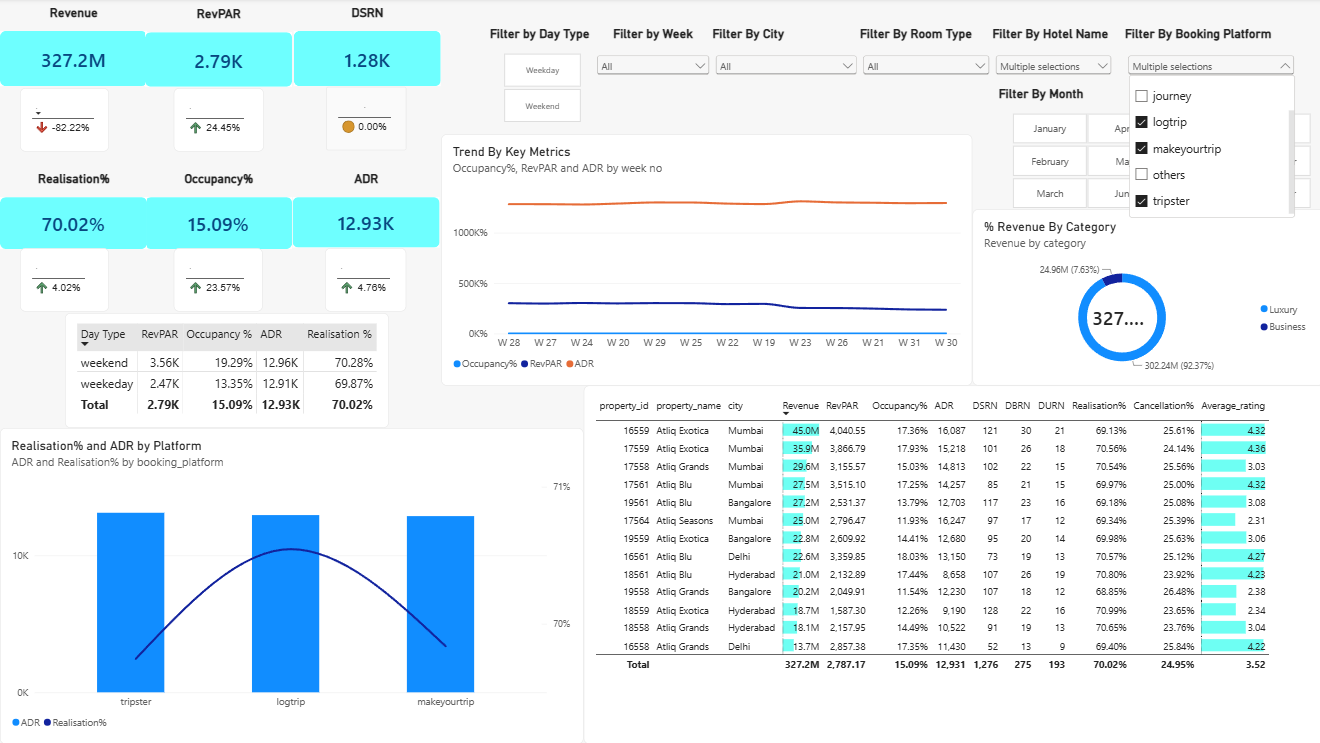

The page's visual inventory and layout, read from the dashboard file:
{"tool":"powerbi","page":{"name":"Home","canvas":[1920,1080],"ordinal":1},"visuals":[{"type":"tableEx","fields":{"Values":["dim_hotels.property_id","dim_hotels.property_name","dim_hotels.city","key_measures.Revenue","key_measures.RevPAR","key_measures.Occupancy%","key_measures.ADR","key_measures.DSRN","key_measures.DBRN","key_measures.DURN","key_measures.Realisation%","key_measures.Cancellation%"]},"box":[845.1,561,1074.9,519.4],"z":0},{"type":"slicer","title":"Filter By City","fields":{"Values":["dim_hotels.city"]},"box":[1031.5,41.6,213.5,94.1],"z":1000},{"type":"slicer","title":"Filter By Room Type","fields":{"Values":["dim_rooms.room_class"]},"box":[1245,41.6,191.8,94.1],"z":2000},{"type":"slicer","title":"Filter By Hotel Name","fields":{"Values":["dim_hotels.property_name"]},"box":[1436.9,41.6,177.3,94.1],"z":3000},{"type":"slicer","title":"Filter By Booking Platform","fields":{"Values":["fact_bookings.booking_platform"]},"box":[1628.7,41.6,249.7,94.1],"z":4000},{"type":"slicer","title":"Filter By Month","fields":{"Values":["dim_date.mmm yy.Variation.Date Hierarchy.Month"]},"box":[1445.9,148.4,470.5,177.3],"z":5000},{"type":"slicer","title":"Filter by Day Type","fields":{"Values":["dim_date.WeekEnd"]},"box":[664.1,41.6,181,139.3],"z":6000},{"type":"slicer","title":"Filter by Week","fields":{"Values":["dim_date.week no"]},"box":[859.6,41.6,171.9,106.8],"z":7000},{"type":"cardVisual","title":"Revenue","fields":{"Data":["key_measures.Revenue"]},"box":[0,10.9,213.5,117.6],"z":8000},{"type":"tableEx","fields":{"Values":["key_measures.Revenue_WoW_change%"]},"box":[29,130.3,128.5,92.3],"z":9000},{"type":"cardVisual","title":"Occupancy%","fields":{"Data":["key_measures.Occupancy%"]},"box":[209.9,251.5,213.5,112.2],"z":10000},{"type":"cardVisual","title":"RevPAR","fields":{"Data":["key_measures.RevPAR"]},"box":[209.9,12.7,213.5,115.8],"z":11000},{"type":"cardVisual","title":"DSRN","fields":{"Data":["key_measures.DSRN"]},"box":[425.3,10.9,213.5,117.6],"z":12000},{"type":"cardVisual","title":"ADR","fields":{"Data":["key_measures.ADR"]},"box":[423.5,251.5,213.5,110.4],"z":13000},{"type":"cardVisual","title":"Realisation%","fields":{"Data":["key_measures.Realisation%"]},"box":[0,251.5,213.5,112.2],"z":14000},{"type":"tableEx","fields":{"Values":["key_measures.RevPAR_WoW_change%"]},"box":[251.5,130.3,130.3,92.3],"z":15000},{"type":"tableEx","fields":{"Values":["key_measures.DSRN_WoW_change%"]},"box":[472.3,128.5,115.8,92.3],"z":16000},{"type":"tableEx","fields":{"Values":["key_measures.Realisation_WoW_change%"]},"box":[29,361.9,128.5,92.3],"z":17000},{"type":"tableEx","fields":{"Values":["key_measures.Occupancy_WoW_change%"]},"box":[251.5,361.9,128.5,92.3],"z":18000},{"type":"tableEx","fields":{"Values":["key_measures.ADR_WoW_change%"]},"box":[470.5,361.9,117.6,92.3],"z":19000},{"type":"donutChart","title":"% Revenue By Category","fields":{"Category":["dim_hotels.category"],"Y":["key_measures.Revenue"]},"box":[1407.9,322.1,508.5,238.9],"z":20000},{"type":"lineChart","title":"Trend By Key Metrics","fields":{"Category":["dim_date.week no"],"Y":["key_measures.Occupancy%","key_measures.RevPAR","key_measures.ADR"]},"box":[638.8,197.3,769.1,363.7],"z":21000},{"type":"lineClusteredColumnComboChart","title":"Realisation% and ADR by Platform","fields":{"Category":["fact_bookings.booking_platform"],"Y":["key_measures.ADR"],"Y2":["key_measures.Realisation%"]},"box":[0,622.5,845.1,457.8],"z":22000},{"type":"tableEx","fields":{"Values":["dim_date.day_type","key_measures.RevPAR","key_measures.Occupancy%","key_measures.ADR","key_measures.Realisation%"]},"box":[94.1,456,468.7,166.5],"z":23000}]}

Visuals, with their boxes in screenshot pixels (x1, y1, x2, y2), scaled from the page's 1920x1080 canvas onto the 1320x743 screenshot:
tableEx - dim_hotels.property_id x dim_hotels.property_name: 581:386:1319:742
"Filter By City" slicer: 709:29:856:93
"Filter By Room Type" slicer: 856:29:988:93
"Filter By Hotel Name" slicer: 988:29:1110:93
"Filter By Booking Platform" slicer: 1120:29:1291:93
"Filter By Month" slicer: 994:102:1318:224
"Filter by Day Type" slicer: 457:29:581:124
"Filter by Week" slicer: 591:29:709:102
"Revenue" cardVisual: 0:7:147:88
tableEx - key_measures.Revenue_WoW_change%: 20:90:108:153
"Occupancy%" cardVisual: 144:173:291:250
"RevPAR" cardVisual: 144:9:291:88
"DSRN" cardVisual: 292:7:439:88
"ADR" cardVisual: 291:173:438:249
"Realisation%" cardVisual: 0:173:147:250
tableEx - key_measures.RevPAR_WoW_change%: 173:90:262:153
tableEx - key_measures.DSRN_WoW_change%: 325:88:404:152
tableEx - key_measures.Realisation_WoW_change%: 20:249:108:312
tableEx - key_measures.Occupancy_WoW_change%: 173:249:261:312
tableEx - key_measures.ADR_WoW_change%: 323:249:404:312
"% Revenue By Category" donutChart: 968:222:1318:386
"Trend By Key Metrics" lineChart: 439:136:968:386
"Realisation% and ADR by Platform" lineClusteredColumnComboChart: 0:428:581:742
tableEx - dim_date.day_type x key_measures.RevPAR: 65:314:387:428
